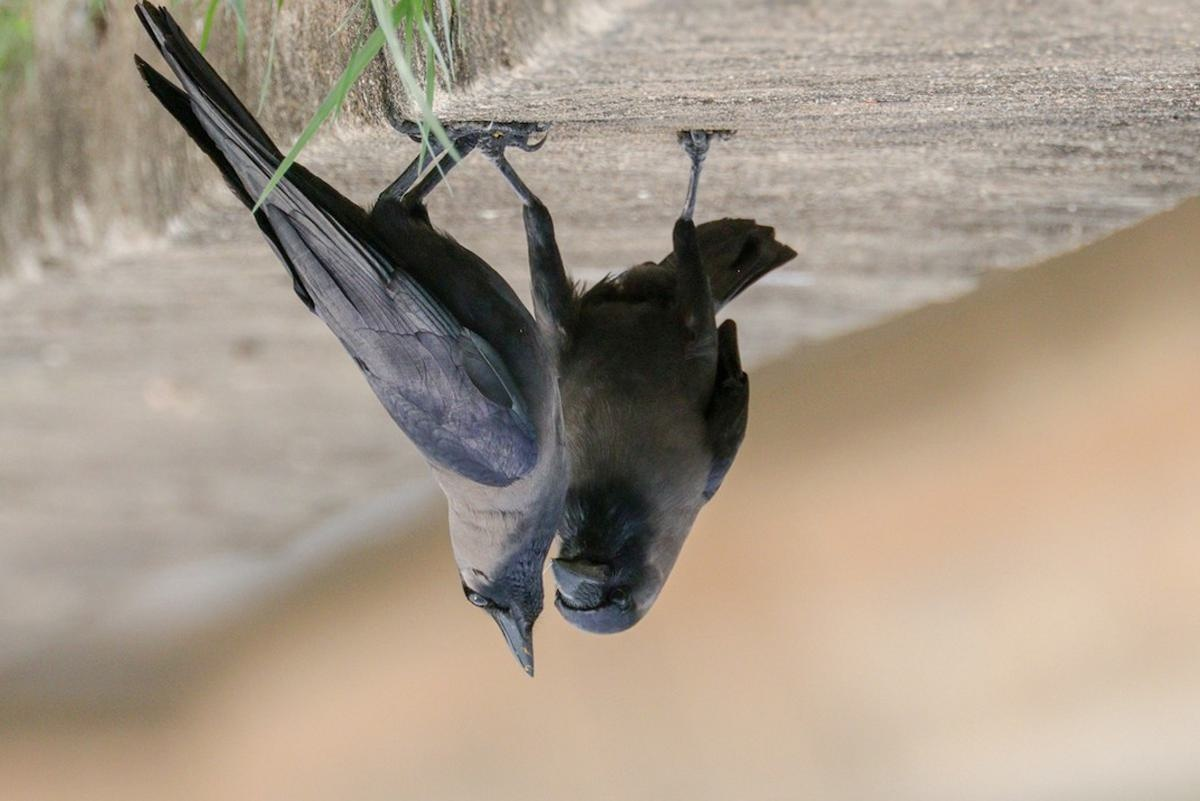crow: (166, 42, 560, 700), (553, 111, 780, 639)
